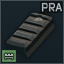Ops-Core Picatinny Rail Adapter mount: (0, 0, 64, 64)
